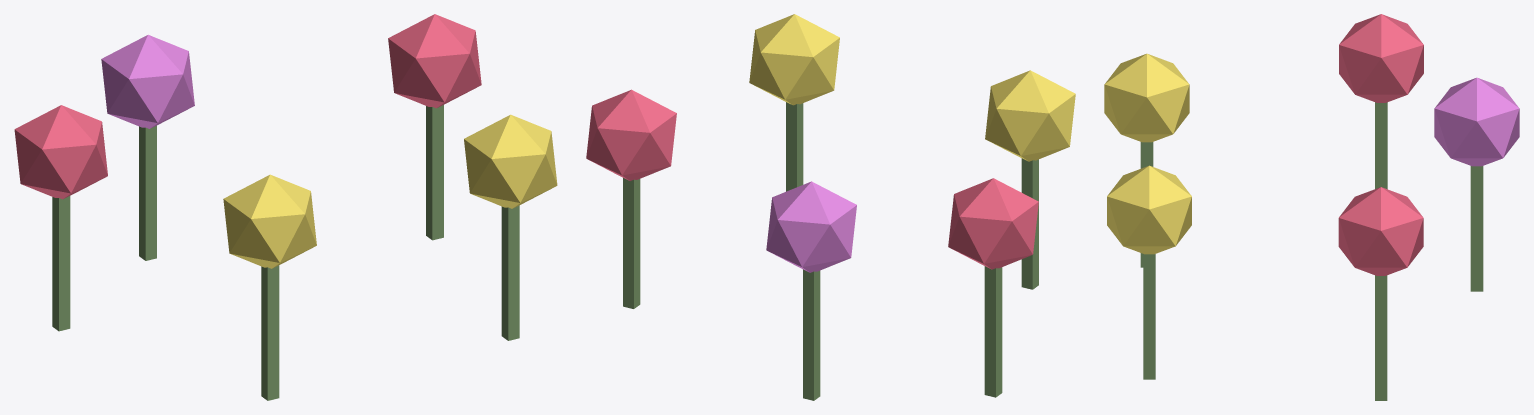
Rendered from flowers.glb.
3 views of the same model, side by side, from view 1: azimuth 30°, elevation 25°; view 2: azimuth 150°, elevation 25°; view 3: azimuth 270°, elevation 25° (orthographic). The views are drawn at different scales.
Visible parts, largest first — view 1: bloom_365, bloom_361, bloom_363, bloom_367, bloom_359, stem_366, stem_360, stem_368, stem_362, stem_364; view 2: bloom_367, bloom_363, bloom_365, bloom_361, bloom_359, stem_368, stem_362, stem_364, stem_366, stem_360; view 3: bloom_359, bloom_361, bloom_363, bloom_365, bloom_367, stem_362, stem_366, stem_364, stem_368, stem_360.
Part boxes in pixels (left/top/right/bottom): bloom_365: left=464, top=114, right=557, bottom=208; bloom_361: left=101, top=34, right=194, bottom=128; bloom_363: left=388, top=14, right=481, bottom=108; bloom_367: left=14, top=105, right=107, bottom=199; bloom_359: left=223, top=174, right=316, bottom=268; stem_366: left=501, top=205, right=519, bottom=340; stem_360: left=261, top=265, right=279, bottom=400; stem_368: left=52, top=196, right=70, bottom=331; stem_362: left=139, top=125, right=156, bottom=260; stem_364: left=426, top=105, right=443, bottom=240; bloom_367: left=948, top=178, right=1038, bottom=269; bloom_363: left=586, top=89, right=676, bottom=180; bloom_365: left=749, top=14, right=839, bottom=105; bloom_361: left=766, top=181, right=856, bottom=272; bloom_359: left=985, top=70, right=1075, bottom=161; stem_368: left=984, top=266, right=1002, bottom=397; stem_362: left=803, top=269, right=820, bottom=400; stem_364: left=623, top=178, right=640, bottom=308; stem_366: left=786, top=102, right=803, bottom=191; stem_360: left=1021, top=158, right=1038, bottom=289; bloom_359: left=1104, top=53, right=1189, bottom=142; bloom_361: left=1434, top=77, right=1519, bottom=166; bloom_363: left=1338, top=187, right=1423, bottom=275; bloom_365: left=1107, top=165, right=1191, bottom=254; bloom_367: left=1339, top=14, right=1423, bottom=102; stem_362: left=1470, top=166, right=1483, bottom=291; stem_366: left=1143, top=254, right=1155, bottom=379; stem_364: left=1375, top=275, right=1387, bottom=400; stem_368: left=1375, top=102, right=1387, bottom=189; stem_360: left=1140, top=142, right=1153, bottom=267.
Size of the model in its own units: 0.5988 by 0.28 by 0.4983.
